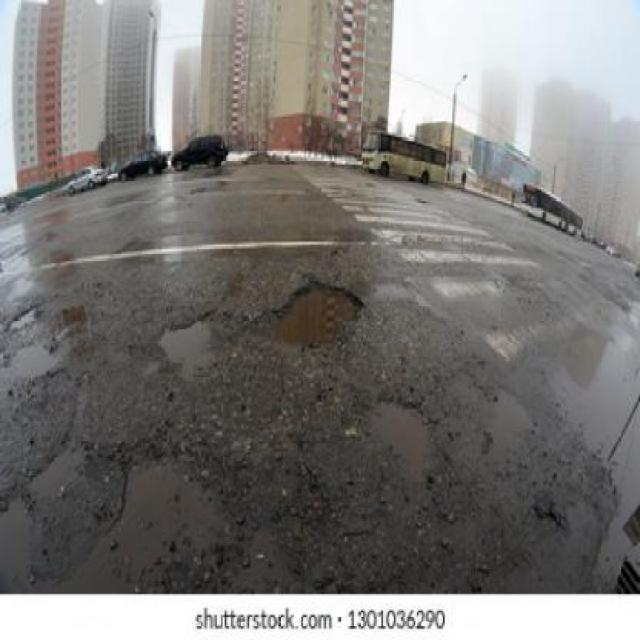pothole: (61, 444, 274, 590), (247, 264, 376, 366), (353, 386, 456, 503), (143, 281, 224, 407)
